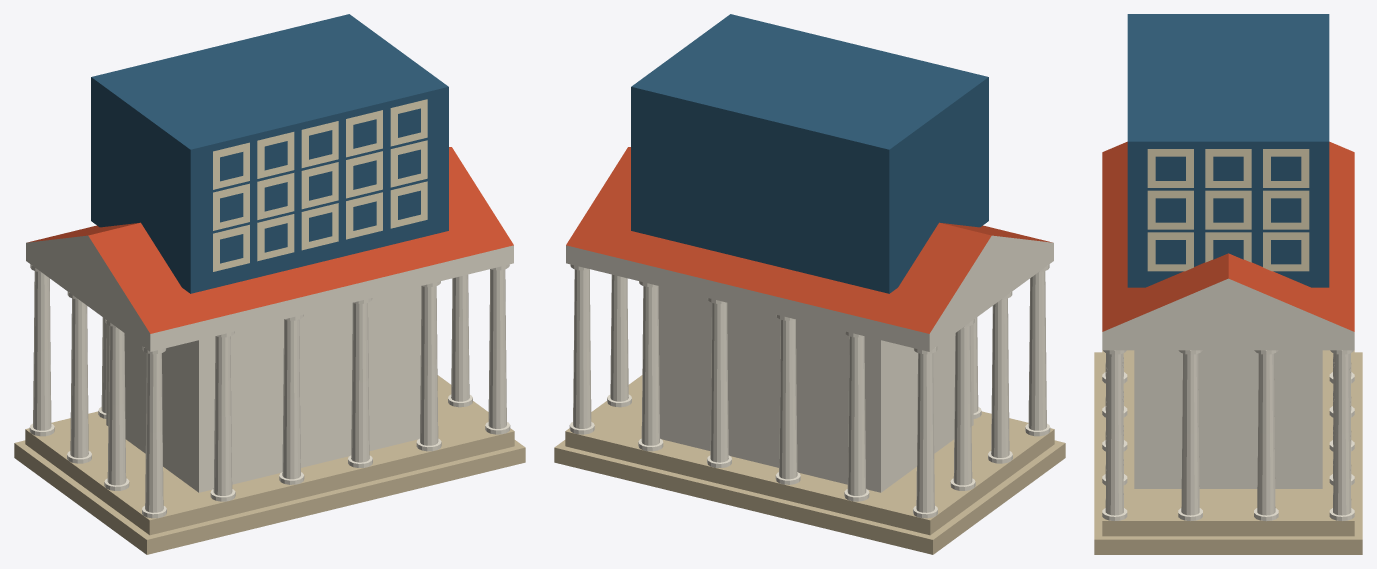
The model's file is building_stock_exchange.fbx.
3 views of the same model, side by side, from view 1: azimuth 30°, elevation 25°; view 2: azimuth 150°, elevation 25°; view 3: azimuth 270°, elevation 25° (orthographic).
Parts seen in each view (by area): view 1: building_stock_exchange; view 2: building_stock_exchange; view 3: building_stock_exchange.
Part boxes in pixels (x1=…): building_stock_exchange: x1=14, y1=14, x2=525, y2=554; building_stock_exchange: x1=554, y1=14, x2=1065, y2=554; building_stock_exchange: x1=1094, y1=14, x2=1362, y2=554.
Bounding box in the file's own units: 66 × 63 × 40.
